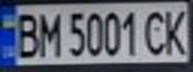0: (84, 8, 106, 57), (103, 8, 124, 57)
1: (118, 7, 142, 56)
5: (63, 8, 87, 57)
B: (9, 9, 42, 58)
C: (139, 7, 172, 56)
K: (160, 4, 193, 56)
M: (33, 8, 63, 59)
